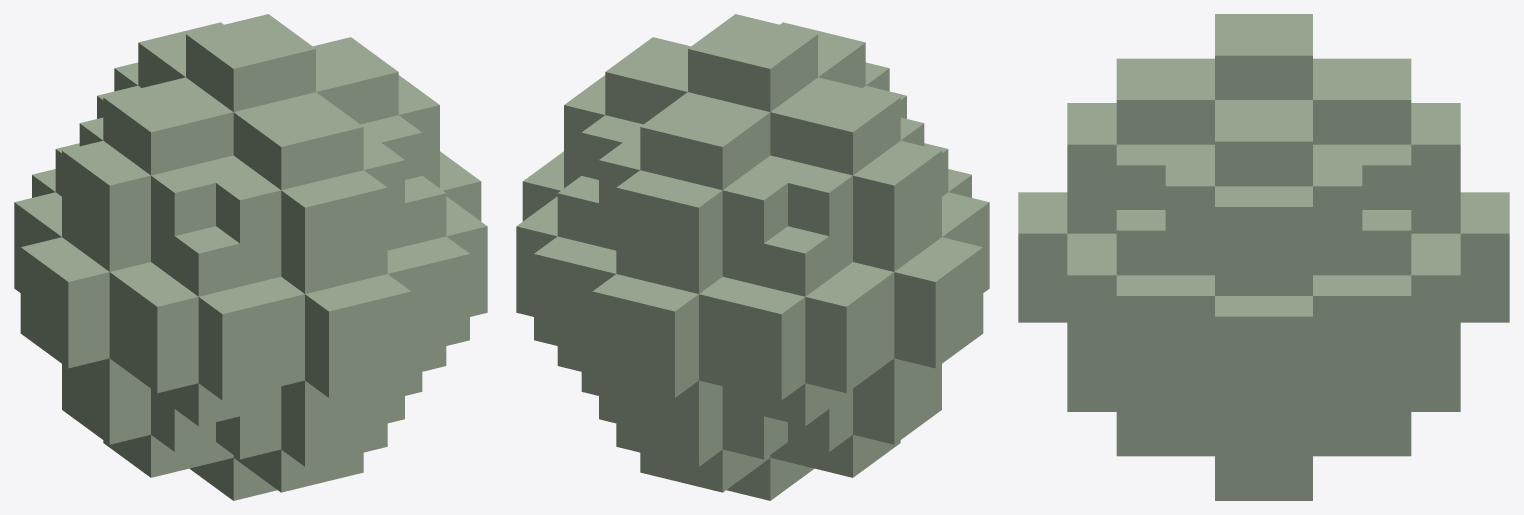
Rendered from ZombieBullet.obj.
The picture shows the model from 3 angles, left to right: view 1: azimuth 30°, elevation 25°; view 2: azimuth 150°, elevation 25°; view 3: azimuth 270°, elevation 25°; orthographic projection. The views are drawn at different scales.
Bounding box in the file's own units: 1 × 1 × 1.
Materials: 1 (1 with a texture image).
